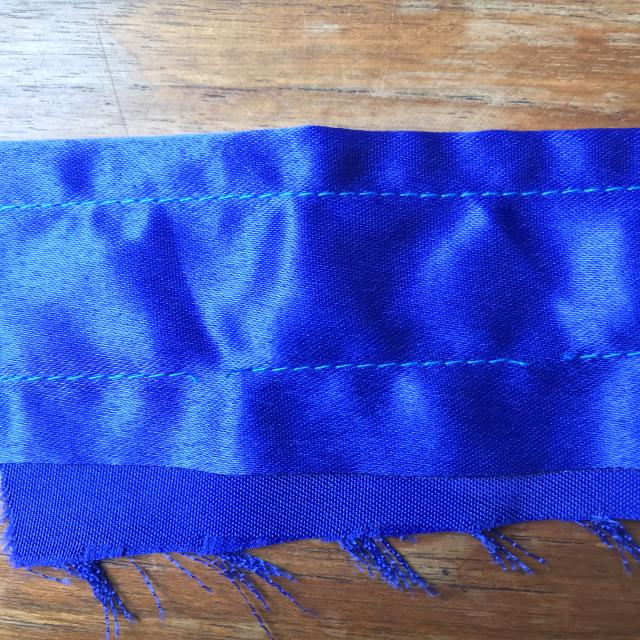broken: (475, 339, 607, 386)
good: (401, 178, 584, 213)
